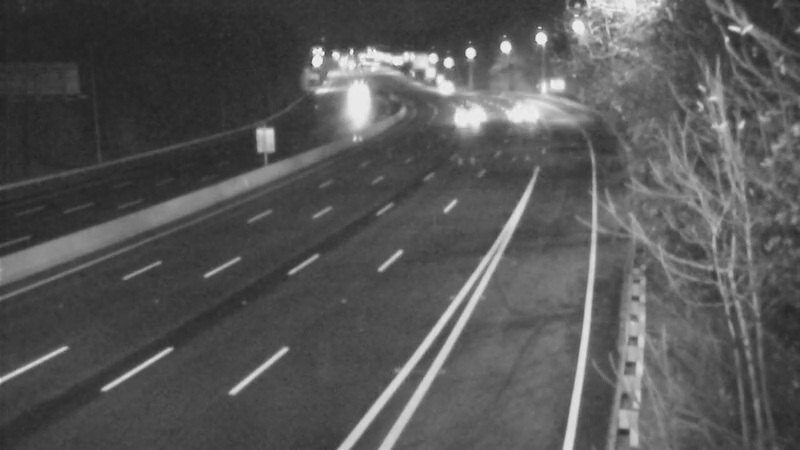vehicle: (413, 64, 463, 114), (496, 90, 546, 140), (443, 88, 493, 138), (331, 77, 381, 127)
